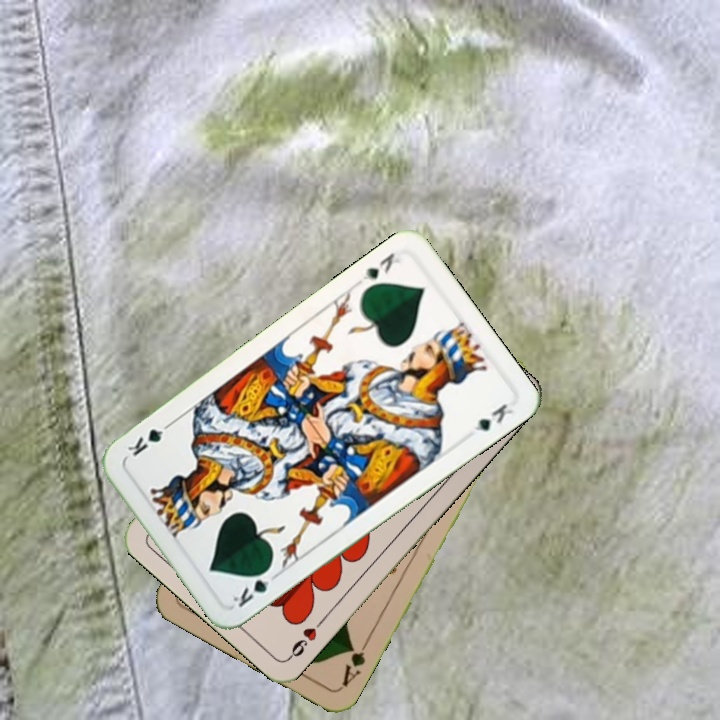GA: (337, 635, 372, 690)
GK: (227, 563, 274, 611), (356, 248, 403, 285)
H9: (284, 613, 328, 662)
